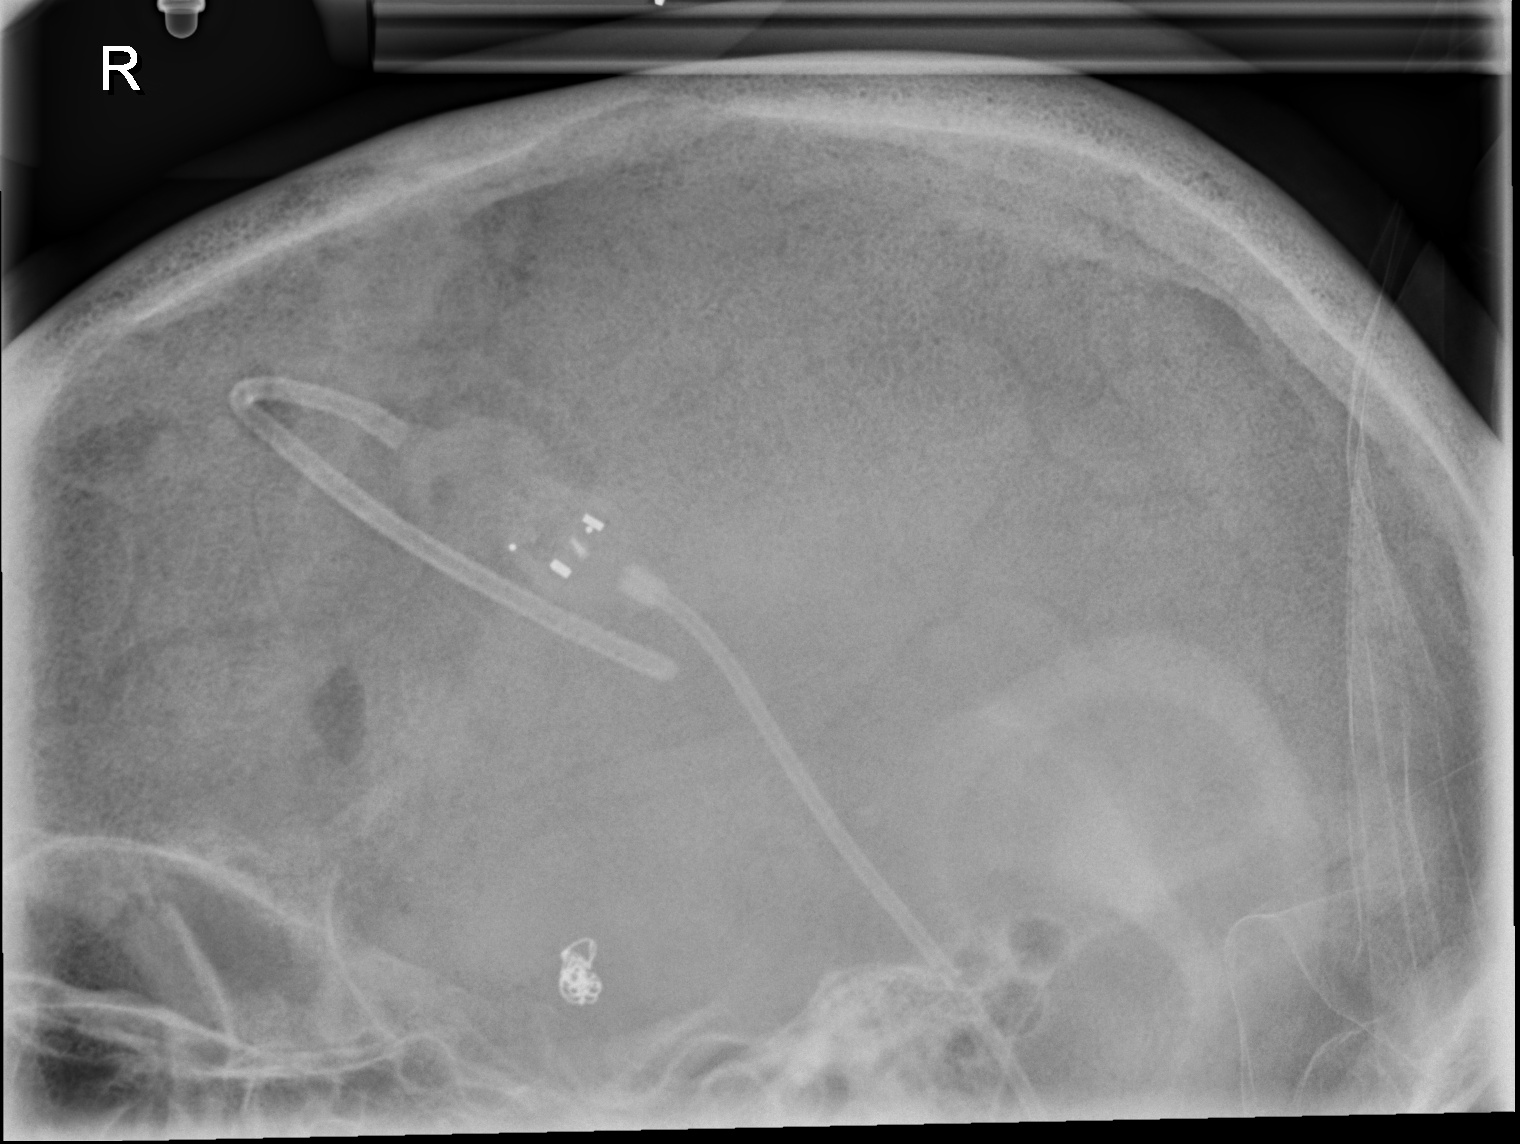Codman Certas: (494, 479, 640, 614)
